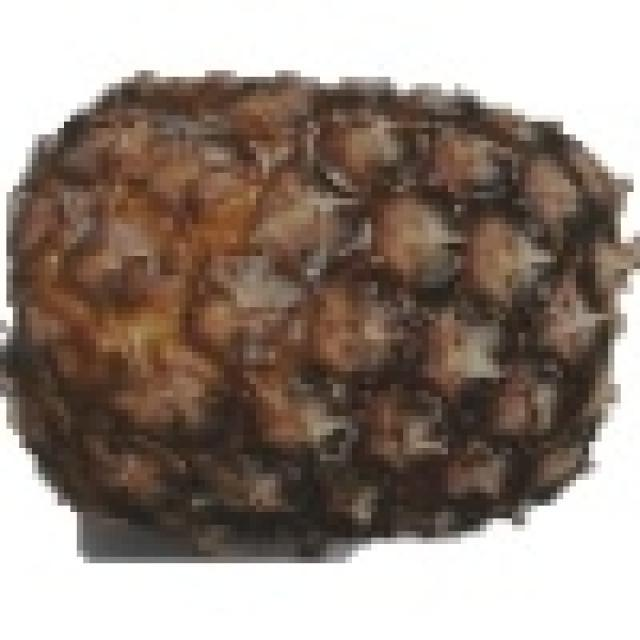pineapple: (19, 64, 634, 538)
